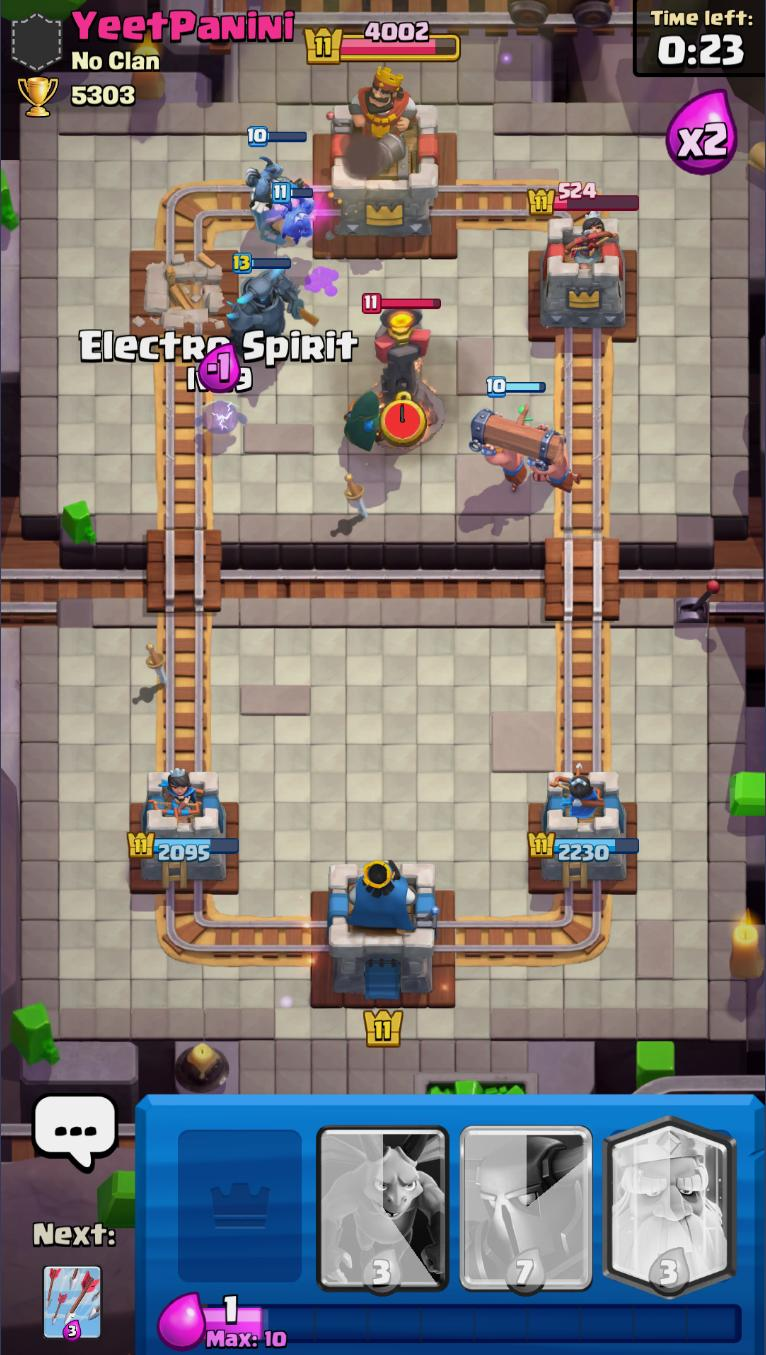ArrowNext: (41, 1264, 103, 1343)
Elixir: (203, 1295, 744, 1350)
Empty: (167, 1095, 310, 1296)
EnemyTower: (533, 214, 631, 331)
EnemyTowerBrocken: (125, 252, 236, 350)
Inferno: (361, 291, 446, 449)
KingTower: (326, 80, 443, 243)
KingTowerHP: (304, 20, 461, 65)
MinionsDeck: (311, 1095, 455, 1296)
MyBandit: (344, 388, 384, 454)
MyBattleRam: (467, 376, 582, 494)
MyKingTower: (326, 858, 440, 1000)
MyMinion: (271, 182, 317, 241), (243, 159, 287, 209)
MyPekka: (225, 252, 319, 355)
MyPrincessTower: (126, 768, 240, 886), (528, 770, 640, 886)
MyPrincessTowerHP: (126, 830, 239, 862), (527, 832, 640, 862)
MyRoyaleGhost: (246, 127, 309, 236)
PekkaDeck: (456, 1094, 598, 1295)
PrincessTower: (562, 212, 617, 266)
RoyaleGhostDeck: (598, 1094, 742, 1296)
TowerPrincessHP: (527, 182, 640, 216)
